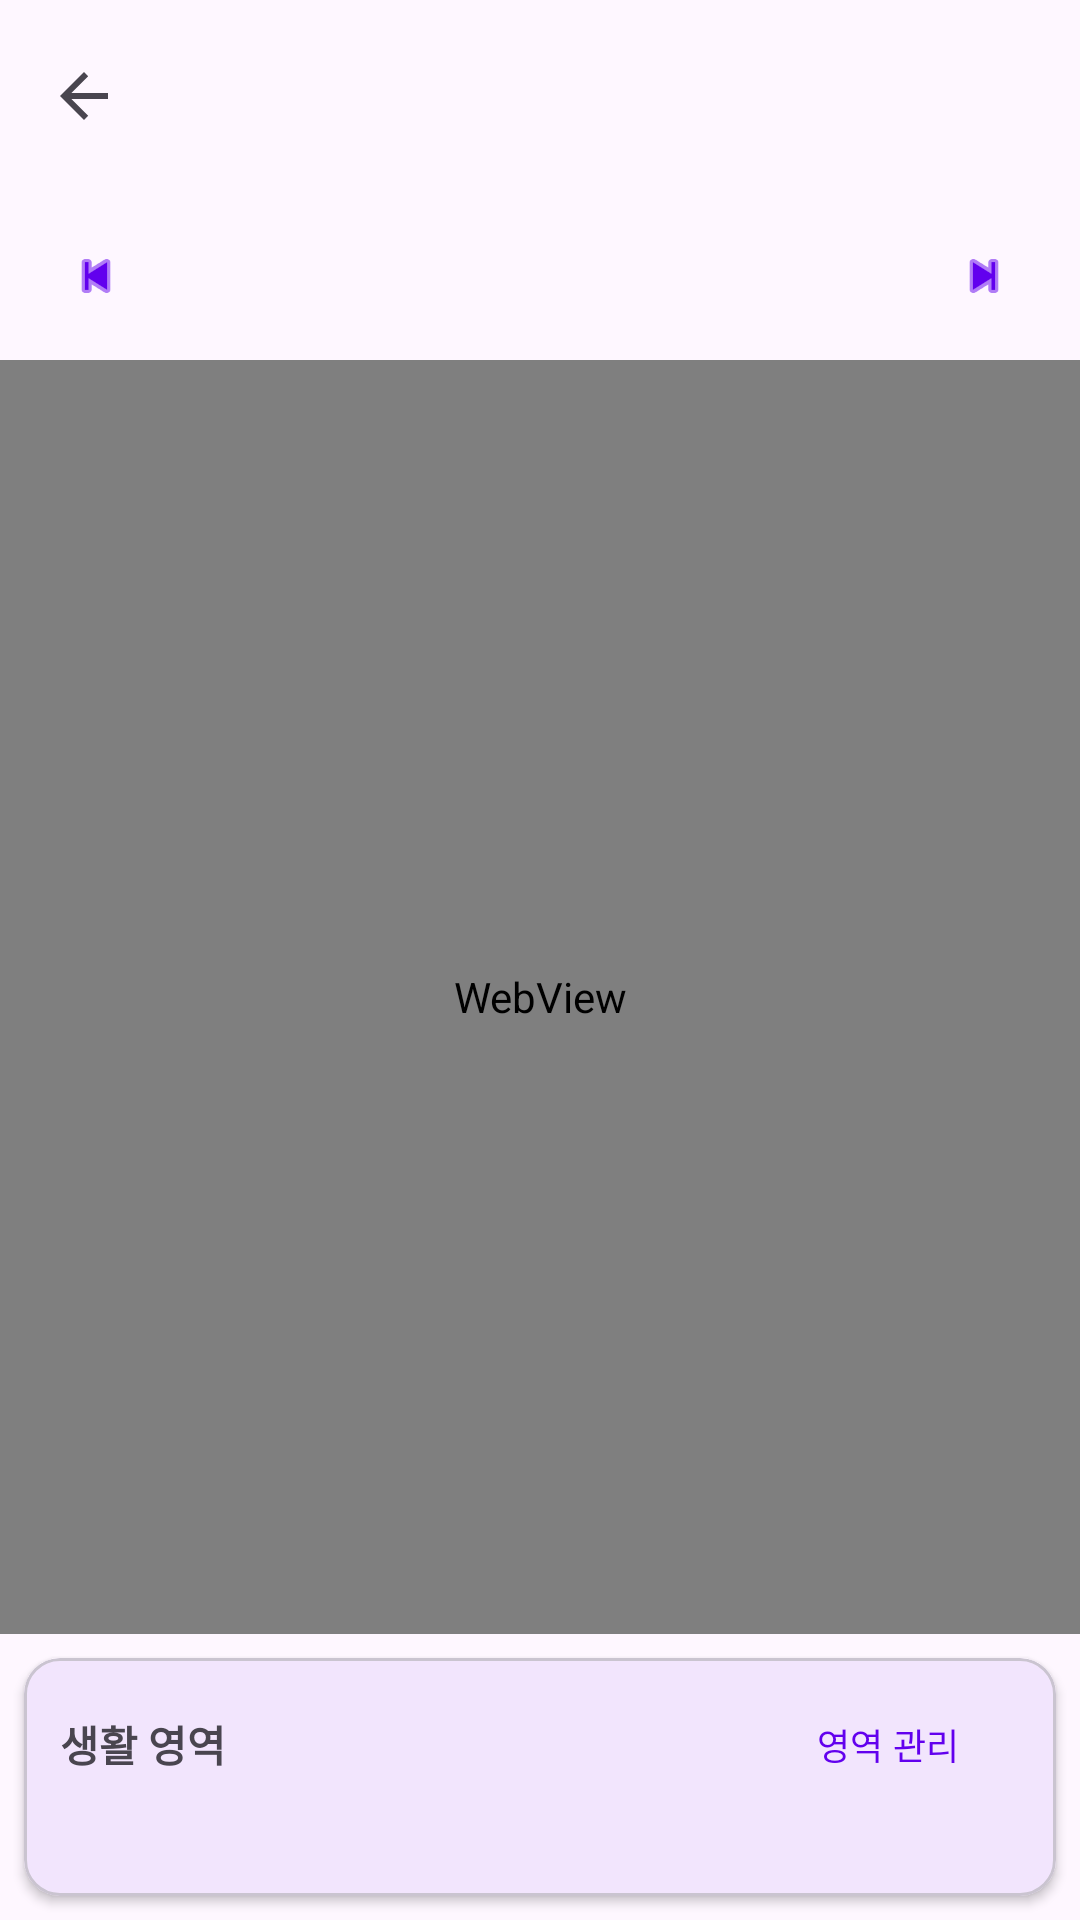

Where to tap for icons on this 1080px×1920px app screen, as [x,y]:
next: [984,276]
previous: [96,276]
